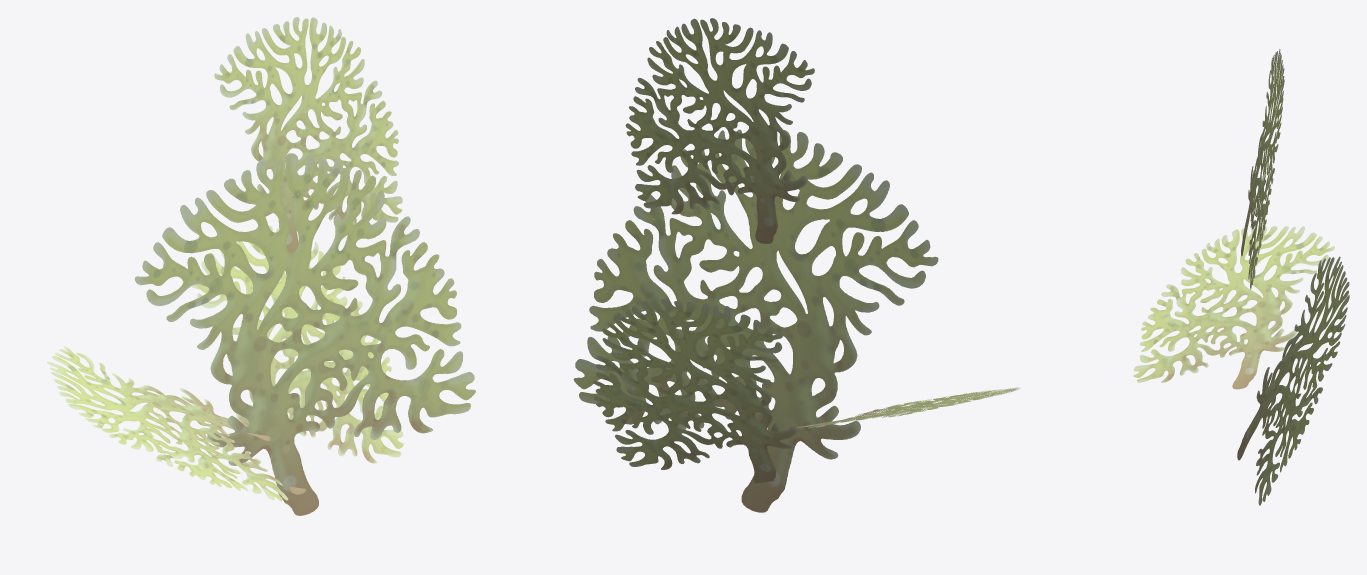
Rendered from Coral_41c.FBX.
3 views of the same model, side by side, from view 1: azimuth 30°, elevation 25°; view 2: azimuth 150°, elevation 25°; view 3: azimuth 270°, elevation 25° (orthographic). The views are drawn at different scales.
Parts seen in each view (by area): view 1: Coral_41c; view 2: Coral_41c; view 3: Coral_41c.
Boxes of the visible parts, bbox=[...] form: Coral_41c: bbox=[47, 17, 475, 515]; Coral_41c: bbox=[573, 18, 1020, 512]; Coral_41c: bbox=[1133, 49, 1349, 505].
Bounding box in the file's own units: 70.02 × 82.01 × 38.3.
